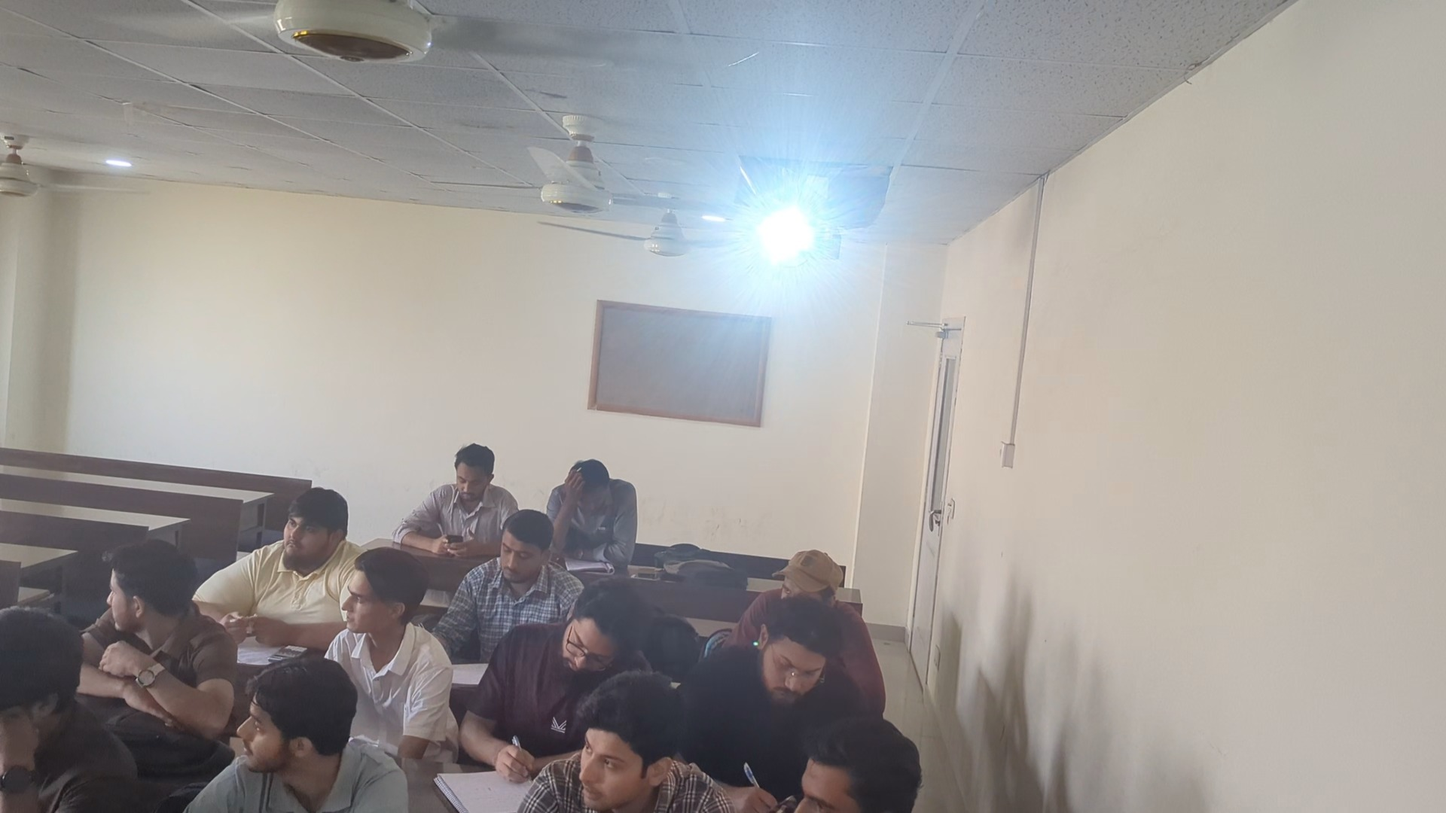look_forward: (323, 544, 458, 715), (236, 483, 342, 650), (571, 683, 681, 813)
read: (443, 526, 559, 686), (542, 449, 644, 577)
turn_head: (101, 533, 221, 705), (235, 679, 355, 782), (794, 731, 918, 813)
using_device: (0, 586, 118, 783), (396, 421, 508, 570)
write: (480, 603, 597, 802), (724, 615, 824, 813)
